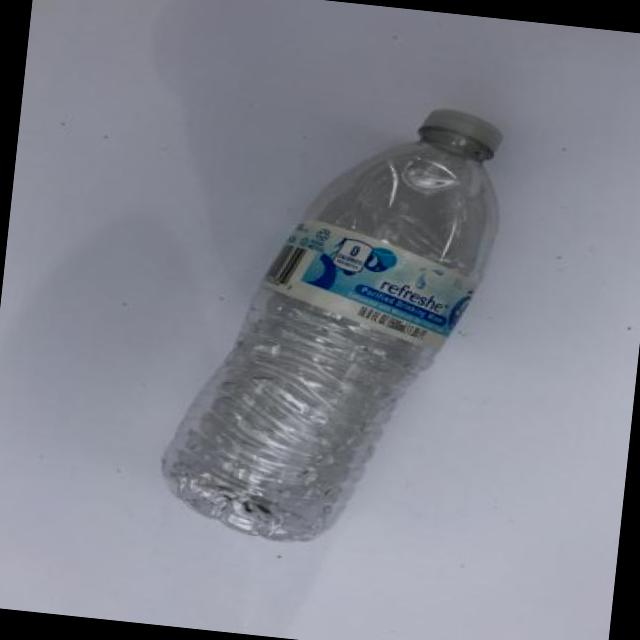bottle: (164, 109, 500, 540)
plastic: (163, 287, 434, 540), (421, 109, 502, 151)
